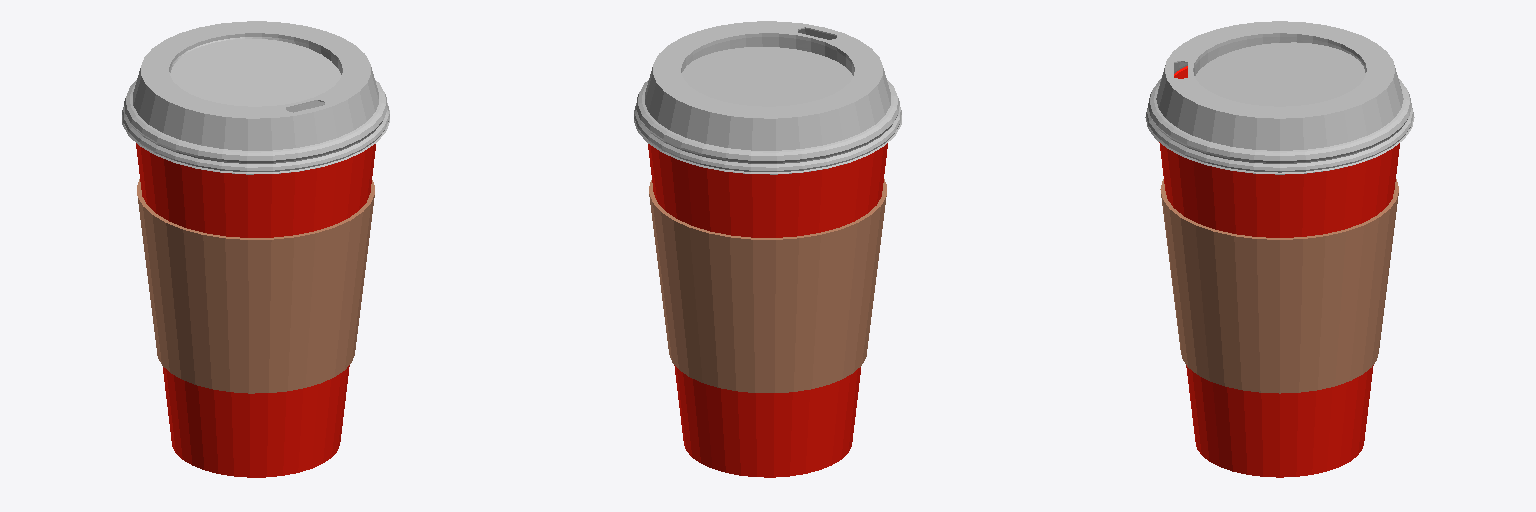
The model's file is coffcup.obj.
3 renders of one model, left to right at view 1: azimuth 30°, elevation 25°; view 2: azimuth 150°, elevation 25°; view 3: azimuth 270°, elevation 25°, orthographic.
Parts seen in each view (by area): view 1: Sleeve_Circle.003, Lid_Circle.004, Cup_Circle.003; view 2: Sleeve_Circle.003, Lid_Circle.004, Cup_Circle.003; view 3: Sleeve_Circle.003, Lid_Circle.004, Cup_Circle.003.
Boxes of the visible parts, box(x1,y1,x2,y2) form: Sleeve_Circle.003: box(137, 179, 374, 393); Lid_Circle.004: box(122, 21, 389, 174); Cup_Circle.003: box(136, 143, 375, 477); Sleeve_Circle.003: box(649, 179, 886, 392); Lid_Circle.004: box(634, 21, 901, 174); Cup_Circle.003: box(648, 143, 887, 477); Sleeve_Circle.003: box(1160, 179, 1398, 393); Lid_Circle.004: box(1145, 21, 1414, 174); Cup_Circle.003: box(1159, 66, 1399, 477).
Size of the model in its own units: 0.446 by 0.68 by 0.446.